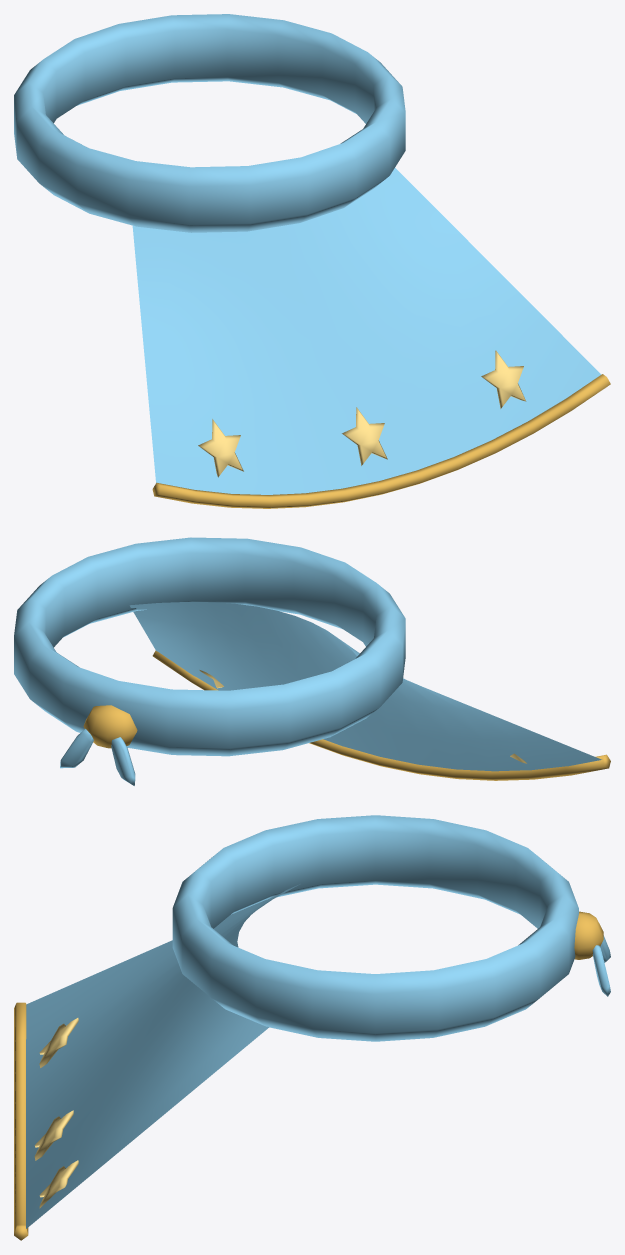
Rendered from scarf_cape.glb.
3 renders of one model, top to bottom at view 1: azimuth 30°, elevation 25°; view 2: azimuth 150°, elevation 25°; view 3: azimuth 270°, elevation 25°, orthographic. The views are drawn at different scales.
Visible parts, largest first — view 1: CapeCloth, NeckRing, GoldHem, HemStar, HemStar.001, HemStar.002; view 2: NeckRing, CapeCloth, GoldHem, FrontKnot, FrontTie.001, FrontTie; view 3: NeckRing, CapeCloth, GoldHem, FrontKnot, HemStar.001, HemStar, HemStar.002.
Part boxes in pixels (x1,y1,x2,y2): CapeCloth: (132, 168, 601, 494); NeckRing: (14, 14, 405, 232); GoldHem: (152, 374, 610, 508); HemStar: (198, 419, 243, 477); HemStar.001: (342, 407, 387, 465); HemStar.002: (481, 350, 526, 408); NeckRing: (14, 537, 405, 756); CapeCloth: (129, 602, 601, 771); GoldHem: (152, 650, 610, 780); FrontKnot: (83, 705, 137, 748); FrontTie.001: (60, 729, 93, 768); FrontTie: (111, 737, 135, 785); NeckRing: (172, 815, 578, 1041); CapeCloth: (26, 884, 300, 1228); GoldHem: (14, 1002, 28, 1240); FrontKnot: (574, 911, 603, 959); HemStar.001: (34, 1110, 73, 1160); HemStar: (39, 1018, 78, 1067); HemStar.002: (39, 1160, 78, 1208).
Bounding box in the file's own units: 0.2507 × 0.1465 × 0.2762.
1 material, 1 textured.
